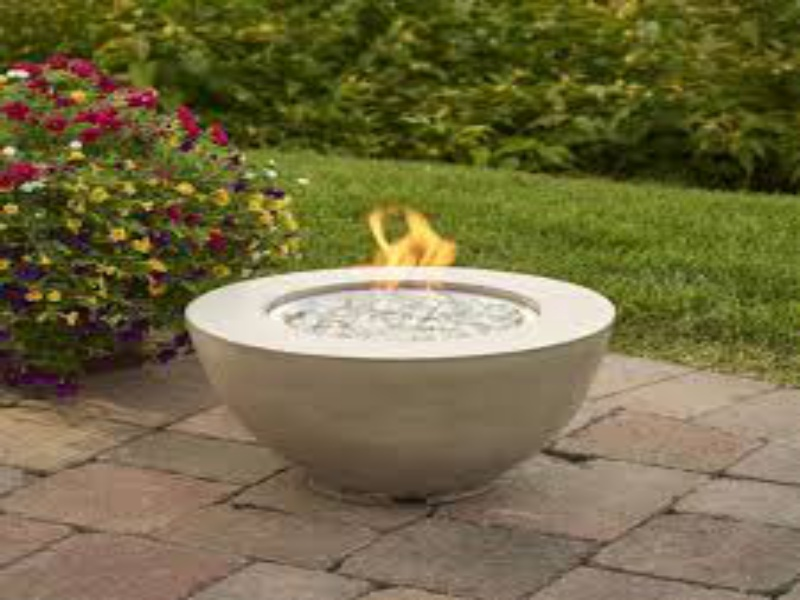fire: (367, 204, 454, 297)
